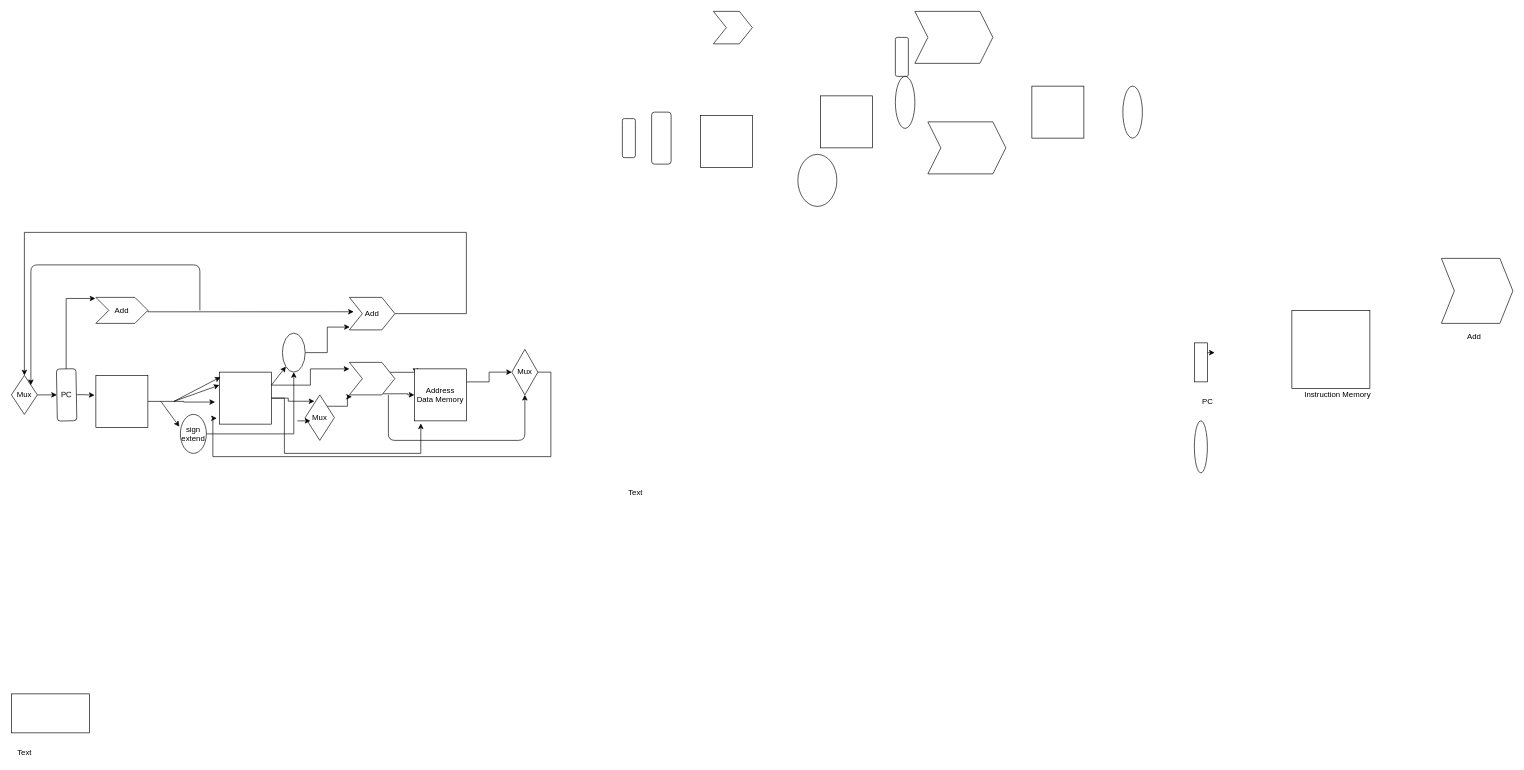
This 1524x770 diagram has some shape labels left out. The shapes that lost their labels are listed below. From the top down, each one's centre as x and y in pixels, then its label:
At (x=293, y=352): "shift left 2".
At (x=245, y=397): "read register read register write register write data".
At (x=372, y=378): "ALU".
At (x=121, y=401): "Address Instruction Momory".
